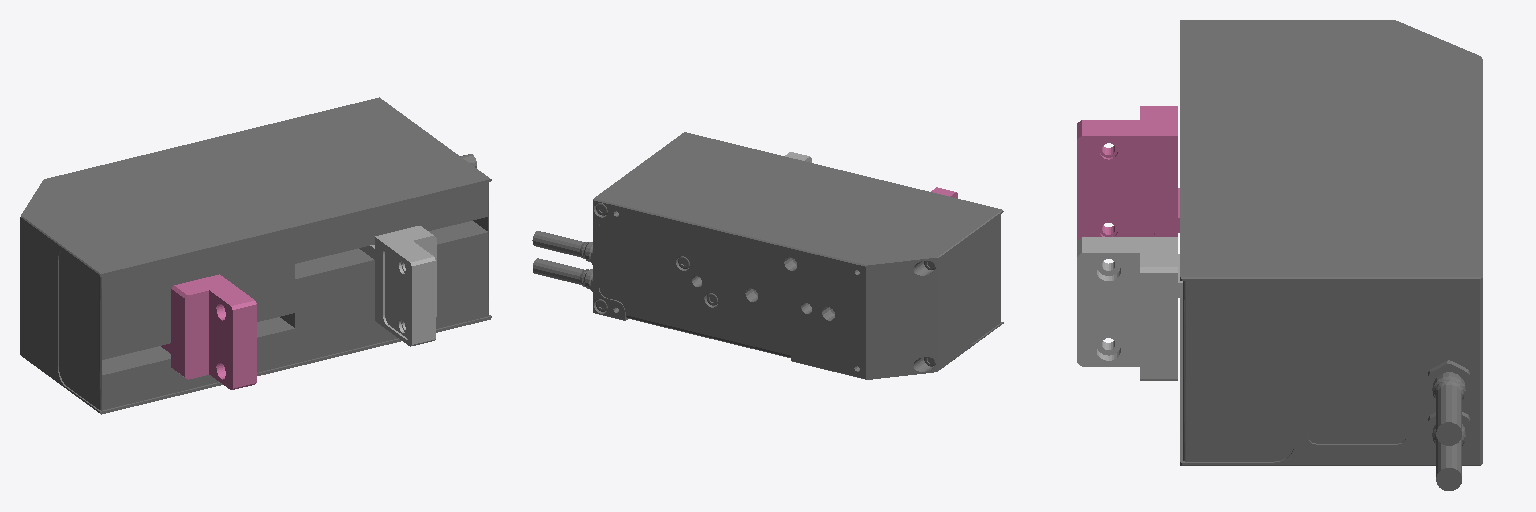
URDF robot description (xamla_motion_examples):
?<?xml version="1.0" encoding="utf-8"?>
<robot name="xamla_motion_examples" xmlns:xacro="http://ros.org/wiki/xacro" xmlns:xamla="http://www.xamla.com/">
  <link name="world" />
  <link name="torso_base_link">
    <visual>
      <geometry>
        <mesh filename="package://part_motoman_sda10f/visual/motoman_base.stl" />
      </geometry>
      <material name="blue">
        <color rgba="0 0 1 1" />
      </material>
    </visual>
    <collision>
      <geometry>
        <mesh filename="package://part_motoman_sda10f/collision/motoman_base.stl" />
      </geometry>
      <material name="yellow">
        <color rgba="0 1 1 1" />
      </material>
    </collision>
  </link>
  <link name="torso_link_b1">
    <visual>
      <origin rpy="0 0 0" xyz="0 0 -0.0165" />
      <geometry>
        <mesh filename="package://part_motoman_sda10f/visual/motoman_axis_b1.stl" />
      </geometry>
      <material name="silver">
        <color rgba="0.8 0.8 0.8 1" />
      </material>
    </visual>
    <collision>
      <origin rpy="0 0 0" xyz="0 0 -0.0165" />
      <geometry>
        <mesh filename="package://part_motoman_sda10f/collision/motoman_axis_b1.stl" />
      </geometry>
      <material name="yellow" />
    </collision>
  </link>
  <link name="torso_link_b2">
    <visual>
      <origin rpy="0 0 0" xyz="0 0 0" />
      <geometry>
        <mesh filename="package://part_motoman_sda10f/visual/motoman_axis_b1.stl" />
      </geometry>
      <material name="silver">
        <color rgba="0.8 0.8 0.8 1" />
      </material>
    </visual>
    <collision>
      <origin rpy="0 0 0" xyz="0 0 0" />
      <geometry>
        <mesh filename="package://part_motoman_sda10f/collision/motoman_axis_b1.stl" />
      </geometry>
      <material name="yellow" />
    </collision>
  </link>
  <joint name="torso_joint_b1" type="revolute">
    <parent link="torso_base_link" />
    <child link="torso_link_b1" />
    <origin xyz="0.0925 0 0.9" rpy="0 0 0" />
    <axis xyz="0 0 1" />
    <limit lower="-2.9570" upper="2.9570" effort="100" velocity="2.26" />
  </joint>
  <joint name="torso_joint_b2" type="revolute">
    <parent link="torso_base_link" />
    <child link="torso_link_b2" />
    <origin xyz="0.09257 0 0.8835" rpy="0 0 0" />
    <axis xyz="0 0 1" />
    <limit lower="-2.9570" upper="2.9570" effort="100" velocity="2.26" />
    <mimic joint="torso_joint_b1" multiplier="1" offset="0" />
  </joint>
  <joint name="torso_base_joint" type="fixed">
    <parent link="world" />
    <child link="torso_base_link" />
    <origin xyz="0 0 0" rpy="0 0 0" />
  </joint>
  <link name="arm_left_link_1_s">
    <visual>
      <origin rpy="0 0 0" xyz="0 0 0" />
      <geometry>
        <mesh filename="package://part_motoman_sda10f/visual/motoman_axis_s.stl" />
      </geometry>
      <material name="blue">
        <color rgba="0.8 0.8 0.8 1" />
      </material>
    </visual>
    <collision>
      <origin rpy="0 0 0" xyz="0 0 0" />
      <geometry>
        <mesh filename="package://part_motoman_sda10f/collision/motoman_axis_s.stl" />
      </geometry>
      <material name="yellow" />
    </collision>
  </link>
  <link name="arm_left_link_2_l">
    <visual>
      <origin rpy="0 0 0" xyz="0 0 0" />
      <geometry>
        <mesh filename="package://part_motoman_sda10f/visual/motoman_axis_l.stl" />
      </geometry>
      <material name="silver" />
    </visual>
    <collision>
      <origin rpy="0 0 0" xyz="0 0 0" />
      <geometry>
        <mesh filename="package://part_motoman_sda10f/collision/motoman_axis_l.stl" />
      </geometry>
      <material name="yellow" />
    </collision>
  </link>
  <link name="arm_left_link_3_e">
    <visual>
      <origin rpy="0 0 0" xyz="0 0 0" />
      <geometry>
        <mesh filename="package://part_motoman_sda10f/visual/motoman_axis_e.stl" />
      </geometry>
      <material name="blue" />
    </visual>
    <collision>
      <origin rpy="0 0 0" xyz="0 0 0" />
      <geometry>
        <mesh filename="package://part_motoman_sda10f/collision/motoman_axis_e.stl" />
      </geometry>
      <material name="yellow" />
    </collision>
  </link>
  <link name="arm_left_link_4_u">
    <visual>
      <origin rpy="0 0 0" xyz="0 0 0" />
      <geometry>
        <mesh filename="package://part_motoman_sda10f/visual/motoman_axis_u.stl" />
      </geometry>
      <material name="silver" />
    </visual>
    <collision>
      <origin rpy="0 0 0" xyz="0 0 0" />
      <geometry>
        <mesh filename="package://part_motoman_sda10f/collision/motoman_axis_u.stl" />
      </geometry>
      <material name="yellow" />
    </collision>
  </link>
  <link name="arm_left_link_5_r">
    <visual>
      <origin rpy="0 0 0" xyz="0 0 0" />
      <geometry>
        <mesh filename="package://part_motoman_sda10f/visual/motoman_axis_r.stl" />
      </geometry>
      <material name="blue" />
    </visual>
    <collision>
      <origin rpy="0 0 0" xyz="0 0 0" />
      <geometry>
        <mesh filename="package://part_motoman_sda10f/collision/motoman_axis_r.stl" />
      </geometry>
      <material name="yellow" />
    </collision>
  </link>
  <link name="arm_left_link_6_b">
    <visual>
      <origin rpy="0 0 0" xyz="0 0 0" />
      <geometry>
        <mesh filename="package://part_motoman_sda10f/visual/motoman_axis_b.stl" />
      </geometry>
      <material name="silver" />
    </visual>
    <collision>
      <origin rpy="0 0 0" xyz="0 0 0" />
      <geometry>
        <mesh filename="package://part_motoman_sda10f/collision/motoman_axis_b.stl" />
      </geometry>
      <material name="yellow" />
    </collision>
  </link>
  <link name="arm_left_link_7_t">
    <visual>
      <geometry>
        <mesh filename="package://part_motoman_sda10f/visual/motoman_axis_t.stl" />
      </geometry>
      <material name="blue" />
    </visual>
    <collision>
      <geometry>
        <mesh filename="package://part_motoman_sda10f/collision/motoman_axis_t.stl" />
      </geometry>
      <material name="yellow" />
    </collision>
  </link>
  <link name="arm_left_link_tool0" />
  <joint name="arm_left_joint_1_s" type="revolute">
    <parent link="torso_link_b1" />
    <child link="arm_left_link_1_s" />
    <origin xyz="0.09996 0.0275 0.32214" rpy="1.5707963267949 0 0" />
    <axis xyz="0 0 -1" />
    <limit lower="-3.13" upper="3.13" effort="0" velocity="2.95" />
  </joint>
  <joint name="arm_left_joint_2_l" type="revolute">
    <parent link="arm_left_link_1_s" />
    <child link="arm_left_link_2_l" />
    <origin xyz="0 0.0577 -0.2255" rpy="-1.5707963267949 0 0" />
    <axis xyz="0 0 -1" />
    <limit lower="-1.90" upper="1.90" effort="0" velocity="2.95" />
  </joint>
  <joint name="arm_left_joint_3_e" type="revolute">
    <parent link="arm_left_link_2_l" />
    <child link="arm_left_link_3_e" />
    <origin xyz="0 0.1690 -0.0454" rpy="1.5707963267949 0 0" />
    <axis xyz="0 0 -1" />
    <limit lower="-2.95" upper="2.95" effort="0" velocity="2.95" />
  </joint>
  <joint name="arm_left_joint_4_u" type="revolute">
    <parent link="arm_left_link_3_e" />
    <child link="arm_left_link_4_u" />
    <origin xyz="0 -0.0085 -0.181" rpy="-1.5707963267949 0 0" />
    <axis xyz="0 0 1" />
    <limit lower="-2.36" upper="2.36" effort="0" velocity="2.95" />
  </joint>
  <joint name="arm_left_joint_5_r" type="revolute">
    <parent link="arm_left_link_4_u" />
    <child link="arm_left_link_5_r" />
    <origin xyz="0 0.1936 0.0155" rpy="1.5707963267949 0 0" />
    <axis xyz="0 0 1" />
    <limit lower="-3.13" upper="3.13" effort="0" velocity="3.48" />
  </joint>
  <joint name="arm_left_joint_6_b" type="revolute">
    <parent link="arm_left_link_5_r" />
    <child link="arm_left_link_6_b" />
    <origin xyz="0 0.0080 -0.155" rpy="-1.5707963267949 0 0" />
    <axis xyz="0 0 1" />
    <limit lower="-1.90" upper="1.90" effort="0" velocity="3.48" />
  </joint>
  <joint name="arm_left_joint_7_t" type="revolute">
    <parent link="arm_left_link_6_b" />
    <child link="arm_left_link_7_t" />
    <origin xyz="0 0.168 -0.015" rpy="1.5707963267949 0 0" />
    <axis xyz="0 0 1" />
    <limit lower="-3.13" upper="3.13" effort="0" velocity="6.97" />
  </joint>
  <joint name="arm_left_joint_tool0" type="fixed">
    <origin xyz="0 0 0.0" rpy="3.14159265358979 0 0" />
    <parent link="arm_left_link_7_t" />
    <child link="arm_left_link_tool0" />
  </joint>
  <link name="arm_right_link_1_s">
    <visual>
      <origin rpy="0 0 0" xyz="0 0 0" />
      <geometry>
        <mesh filename="package://part_motoman_sda10f/visual/motoman_axis_s.stl" />
      </geometry>
      <material name="blue">
        <color rgba="0.8 0.8 0.8 1" />
      </material>
    </visual>
    <collision>
      <origin rpy="0 0 0" xyz="0 0 0" />
      <geometry>
        <mesh filename="package://part_motoman_sda10f/collision/motoman_axis_s.stl" />
      </geometry>
      <material name="yellow" />
    </collision>
  </link>
  <link name="arm_right_link_2_l">
    <visual>
      <origin rpy="0 0 0" xyz="0 0 0" />
      <geometry>
        <mesh filename="package://part_motoman_sda10f/visual/motoman_axis_l.stl" />
      </geometry>
      <material name="silver" />
    </visual>
    <collision>
      <origin rpy="0 0 0" xyz="0 0 0" />
      <geometry>
        <mesh filename="package://part_motoman_sda10f/collision/motoman_axis_l.stl" />
      </geometry>
      <material name="yellow" />
    </collision>
  </link>
  <link name="arm_right_link_3_e">
    <visual>
      <origin rpy="0 0 0" xyz="0 0 0" />
      <geometry>
        <mesh filename="package://part_motoman_sda10f/visual/motoman_axis_e.stl" />
      </geometry>
      <material name="blue" />
    </visual>
    <collision>
      <origin rpy="0 0 0" xyz="0 0 0" />
      <geometry>
        <mesh filename="package://part_motoman_sda10f/collision/motoman_axis_e.stl" />
      </geometry>
      <material name="yellow" />
    </collision>
  </link>
  <link name="arm_right_link_4_u">
    <visual>
      <origin rpy="0 0 0" xyz="0 0 0" />
      <geometry>
        <mesh filename="package://part_motoman_sda10f/visual/motoman_axis_u.stl" />
      </geometry>
      <material name="silver" />
    </visual>
    <collision>
      <origin rpy="0 0 0" xyz="0 0 0" />
      <geometry>
        <mesh filename="package://part_motoman_sda10f/collision/motoman_axis_u.stl" />
      </geometry>
      <material name="yellow" />
    </collision>
  </link>
  <link name="arm_right_link_5_r">
    <visual>
      <origin rpy="0 0 0" xyz="0 0 0" />
      <geometry>
        <mesh filename="package://part_motoman_sda10f/visual/motoman_axis_r.stl" />
      </geometry>
      <material name="blue" />
    </visual>
    <collision>
      <origin rpy="0 0 0" xyz="0 0 0" />
      <geometry>
        <mesh filename="package://part_motoman_sda10f/collision/motoman_axis_r.stl" />
      </geometry>
      <material name="yellow" />
    </collision>
  </link>
  <link name="arm_right_link_6_b">
    <visual>
      <origin rpy="0 0 0" xyz="0 0 0" />
      <geometry>
        <mesh filename="package://part_motoman_sda10f/visual/motoman_axis_b.stl" />
      </geometry>
      <material name="silver" />
    </visual>
    <collision>
      <origin rpy="0 0 0" xyz="0 0 0" />
      <geometry>
        <mesh filename="package://part_motoman_sda10f/collision/motoman_axis_b.stl" />
      </geometry>
      <material name="yellow" />
    </collision>
  </link>
  <link name="arm_right_link_7_t">
    <visual>
      <geometry>
        <mesh filename="package://part_motoman_sda10f/visual/motoman_axis_t.stl" />
      </geometry>
      <material name="blue" />
    </visual>
    <collision>
      <geometry>
        <mesh filename="package://part_motoman_sda10f/collision/motoman_axis_t.stl" />
      </geometry>
      <material name="yellow" />
    </collision>
  </link>
  <link name="arm_right_link_tool0" />
  <joint name="arm_right_joint_1_s" type="revolute">
    <parent link="torso_link_b1" />
    <child link="arm_right_link_1_s" />
    <origin xyz="0.09996 -0.0275 0.32214" rpy="1.5707963267949 0 -3.14159265358979" />
    <axis xyz="0 0 1" />
    <limit lower="-3.13" upper="3.13" effort="0" velocity="2.95" />
  </joint>
  <joint name="arm_right_joint_2_l" type="revolute">
    <parent link="arm_right_link_1_s" />
    <child link="arm_right_link_2_l" />
    <origin xyz="0 0.0577 -0.2255" rpy="-1.5707963267949 0 0" />
    <axis xyz="0 0 1" />
    <limit lower="-1.90" upper="1.90" effort="0" velocity="2.95" />
  </joint>
  <joint name="arm_right_joint_3_e" type="revolute">
    <parent link="arm_right_link_2_l" />
    <child link="arm_right_link_3_e" />
    <origin xyz="0 0.1690 -0.0454" rpy="1.5707963267949 0 0" />
    <axis xyz="0 0 1" />
    <limit lower="-2.95" upper="2.95" effort="0" velocity="2.95" />
  </joint>
  <joint name="arm_right_joint_4_u" type="revolute">
    <parent link="arm_right_link_3_e" />
    <child link="arm_right_link_4_u" />
    <origin xyz="0 -0.0085 -0.181" rpy="-1.5707963267949 0 0" />
    <axis xyz="0 0 -1" />
    <limit lower="-2.36" upper="2.36" effort="0" velocity="2.95" />
  </joint>
  <joint name="arm_right_joint_5_r" type="revolute">
    <parent link="arm_right_link_4_u" />
    <child link="arm_right_link_5_r" />
    <origin xyz="0 0.1936 0.0155" rpy="1.5707963267949 0 0" />
    <axis xyz="0 0 -1" />
    <limit lower="-3.13" upper="3.13" effort="0" velocity="3.48" />
  </joint>
  <joint name="arm_right_joint_6_b" type="revolute">
    <parent link="arm_right_link_5_r" />
    <child link="arm_right_link_6_b" />
    <origin xyz="0 0.0080 -0.155" rpy="-1.5707963267949 0 0" />
    <axis xyz="0 0 -1" />
    <limit lower="-1.90" upper="1.90" effort="0" velocity="3.48" />
  </joint>
  <joint name="arm_right_joint_7_t" type="revolute">
    <parent link="arm_right_link_6_b" />
    <child link="arm_right_link_7_t" />
    <origin xyz="0 0.168 -0.015" rpy="1.5707963267949 0 0" />
    <axis xyz="0 0 -1" />
    <limit lower="-3.13" upper="3.13" effort="0" velocity="6.97" />
  </joint>
  <joint name="arm_right_joint_tool0" type="fixed">
    <origin xyz="0 0 0.0" rpy="3.14159265358979 0 0" />
    <parent link="arm_right_link_7_t" />
    <child link="arm_right_link_tool0" />
  </joint>
  <link name="_head_base"></link>
  <joint name="_base_2_head_base" type="fixed">
    <parent link="torso_link_b1" />
    <child link="_head_base" />
    <origin rpy="0 0 0.0" xyz="0.09996 0 0.441" />
  </joint>
  <joint name="_anterior_gripper_joint" type="fixed">
    <origin xyz="0 0 0" rpy="0 0 0" />
    <parent link="arm_right_link_tool0" />
    <child link="_base_link" />
  </joint>
  <link name="_base_link">
    <inertial>
      <mass value="0.25" />
      <origin xyz="0 0 0" />
      <!--inertia ixx="1.0" ixy="0.0" ixz="0.0"
               iyy="100.0" iyz="0.0"
               izz="1.0" /-->
      <inertia ixx="1.0" ixy="0.0" ixz="0.0" iyy="1.0" iyz="0.0" izz="1.0" />
    </inertial>
    <visual>
      <origin xyz="0.0 0 0" rpy="3.14159265358979 0 1.5707963267949" />
      <geometry>
        <mesh filename="package://part_wsg50/visual/wsg50_base.dae" scale="0.001 0.001 0.001" />
        <!--box size="0.146 0.05 0.0735"/-->
      </geometry>
      <material name="grey">
        <color rgba="0.5 0.5 0.5 1" />
      </material>
    </visual>
    <collision>
      <origin xyz="0.0 0 0" rpy="3.14159265358979 0 1.5707963267949" />
      <geometry>
        <!--box size="0.146 0.05 0.0735"/-->
        <mesh filename="package://part_wsg50/collision/wsg50_base.stl" scale="0.001 0.001 0.001" />
      </geometry>
    </collision>
  </link>
  <gazebo reference="_base_link">
    <material>Gazebo/Grey</material>
    <turnGravityOff>false</turnGravityOff>
  </gazebo>
  <joint name="_base_joint_gripper_left" type="prismatic">
    <limit lower="-0.055" upper="-0.0027" effort="80.0" velocity="0.42" />
    <origin xyz="0 0 0.0731" rpy="0 0 0" />
    <!--origin xyz="-0.0067 0 0.049" rpy="0 0 0" /-->
    <parent link="_base_link" />
    <child link="_gripper_left" />
    <dynamics friction="100" damping="100" />
    <axis xyz="-1 0 0" />
    <mimic joint="_base_joint_gripper_right" multiplier="-1.0" offset="0.0" />
  </joint>
  <transmission name="_base_trans_left" type="pr2_mechanism_model/SimpleTransmission">
    <actuator name="_base_motor_left" />
    <joint name="_base_joint_gripper_left" />
    <mechanicalReduction>1</mechanicalReduction>
    <motorTorqueConstant>1</motorTorqueConstant>
  </transmission>
  <link name="_gripper_left">
    <inertial>
      <mass value="0.1" />
      <origin xyz="0 0 0" />
      <inertia ixx="1.0" ixy="0.0" ixz="0.0" iyy="1.0" iyz="0.0" izz="1.0" />
    </inertial>
    <visual>
      <origin xyz="0.0 0 0" rpy="3.14159265358979 0 -1.5707963267949" />
      <geometry>
        <mesh filename="package://part_wsg50/visual/wsg50_base_gripper_left.dae" scale="0.001 0.001 0.001" />
        <!--box size="0.0175 0.03 0.024"/-->
      </geometry>
    </visual>
    <collision>
      <origin xyz="0 0 0" rpy="3.14159265358979 0 -1.5707963267949" />
      <geometry>
        <!--box size="0.0175 0.03 0.024"/-->
        <mesh filename="package://part_wsg50/collision/wsg50_base_gripper_left.stl" scale="0.001 0.001 0.001" />
      </geometry>
    </collision>
  </link>
  <gazebo reference="_gripper_left">
    <material>Gazebo/Blue</material>
    <turnGravityOff>false</turnGravityOff>
  </gazebo>
  <joint name="_base_joint_gripper_right" type="prismatic">
    <limit lower="0.0027" upper="0.055" effort="80.0" velocity="0.42" />
    <origin xyz="0 0 0.0731" rpy="0 0 0" />
    <parent link="_base_link" />
    <child link="_gripper_right" />
    <axis xyz="-1 0 0" />
  </joint>
  <transmission name="_base_trans_right" type="pr2_mechanism_model/SimpleTransmission">
    <actuator name="_base_motor_right" />
    <joint name="_base_joint_gripper_right" />
    <mechanicalReduction>1</mechanicalReduction>
    <motorTorqueConstant>1</motorTorqueConstant>
  </transmission>
  <link name="_gripper_right">
    <inertial>
      <mass value="0.1" />
      <origin xyz="0 0 0" />
      <inertia ixx="1.0" ixy="0.0" ixz="0.0" iyy="1.0" iyz="0.0" izz="1.0" />
    </inertial>
    <visual>
      <origin xyz="0.0 0 0" rpy="3.14159265358979 0 -1.5707963267949" />
      <geometry>
        <mesh filename="package://part_wsg50/visual/wsg50_base_gripper_right.dae" scale="0.001 0.001 0.001" />
        <!--box size="0.0175 0.03 0.024"/-->
      </geometry>
    </visual>
    <collision>
      <origin xyz="0 0 0" rpy="3.14159265358979 0 -1.5707963267949" />
      <geometry>
        <!--box size="0.0175 0.03 0.024"/-->
        <mesh filename="package://part_wsg50/collision/wsg50_base_gripper_right.stl" scale="0.001 0.001 0.001" />
      </geometry>
    </collision>
  </link>
  <link name="_gripper_right_tool0" />
  <joint name="_base_joint_gripper_right_tool0" type="fixed">
    <origin xyz="-0.001 0 0.024" rpy="0 0 0" />
    <parent link="_gripper_right" />
    <child link="_gripper_right_tool0" />
  </joint>
  <link name="_gripper_left_tool0" />
  <joint name="_base_joint_gripper_left_tool0" type="fixed">
    <origin xyz="0.001 0 0.024" rpy="0 0 3.14159265358979" />
    <parent link="_gripper_left" />
    <child link="_gripper_left_tool0" />
  </joint>
  <gazebo reference="gripper_right">
    <material>Gazebo/White</material>
    <turnGravityOff>false</turnGravityOff>
  </gazebo>
</robot>

--- Facts derived from the render (not from the file) ---
Views: 3 orthographic renders of the robot side by side, from view 1: azimuth 30°, elevation 25°; view 2: azimuth 150°, elevation 25°; view 3: azimuth 270°, elevation 25°.
Model xamla_motion_examples with 26 links and 25 joints (16 revolute, 2 prismatic, 7 fixed), rooted at world, posed all joints at 0 but 2 set to mid-range because 0 is outside their limits (_base_joint_gripper_left = -0.0289, _base_joint_gripper_right = 0.0289).
Visible links, largest first — view 1: _base_link, _gripper_left, _gripper_right; view 2: _base_link; view 3: _base_link, _gripper_right, _gripper_left.
Boxes of the visible links, left/top/right/bottom form: _base_link: left=20, top=97, right=491, bottom=414; _gripper_left: left=161, top=274, right=256, bottom=389; _gripper_right: left=359, top=226, right=436, bottom=346; _base_link: left=532, top=132, right=1003, bottom=379; _base_link: left=1180, top=20, right=1482, bottom=490; _gripper_right: left=1077, top=237, right=1182, bottom=380; _gripper_left: left=1077, top=106, right=1179, bottom=240.
Size in the robot's own frame: 0.176 by 0.0971 by 0.05 metres.
Meshes: 12 distinct files referenced, 3 mesh visuals loaded (3 Collada DAE); not drawn: 17 (reference not matched to a file when rendering).